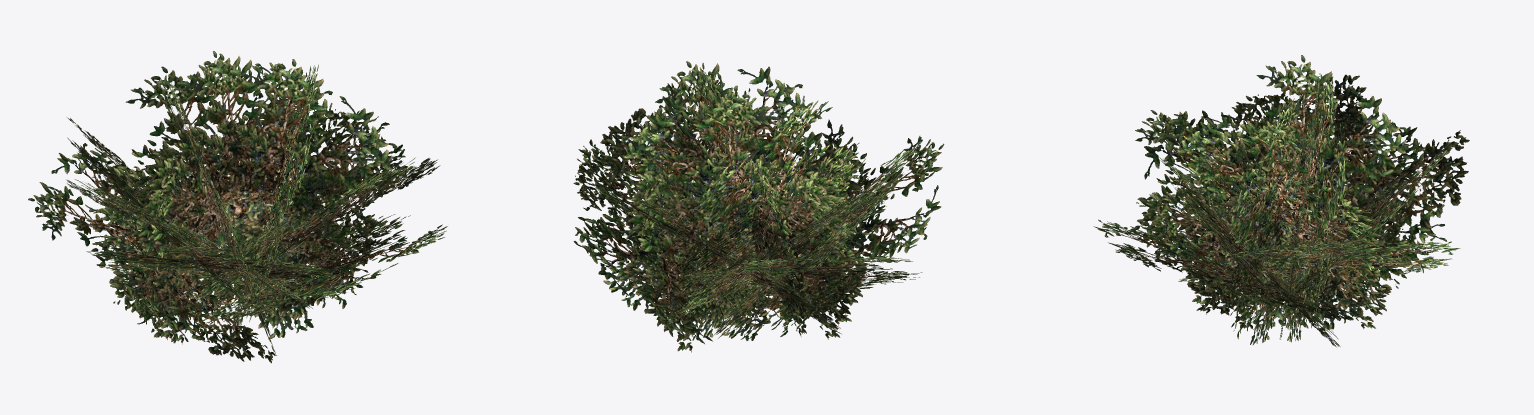
The model's file is shrb_leafbush_sm_l0.fbx.
The picture shows the model from 3 angles, left to right: view 1: azimuth 30°, elevation 25°; view 2: azimuth 150°, elevation 25°; view 3: azimuth 270°, elevation 25°; orthographic projection. The views are drawn at different scales.
Parts seen in each view (by area): view 1: mesh_node; view 2: mesh_node; view 3: mesh_node.
Boxes of the visible parts, x1,y1,x2,y2 form: mesh_node: (28, 51, 447, 363); mesh_node: (573, 61, 944, 352); mesh_node: (1093, 55, 1469, 346).
Size of the model in its own units: 1.77 by 1.21 by 1.73.
